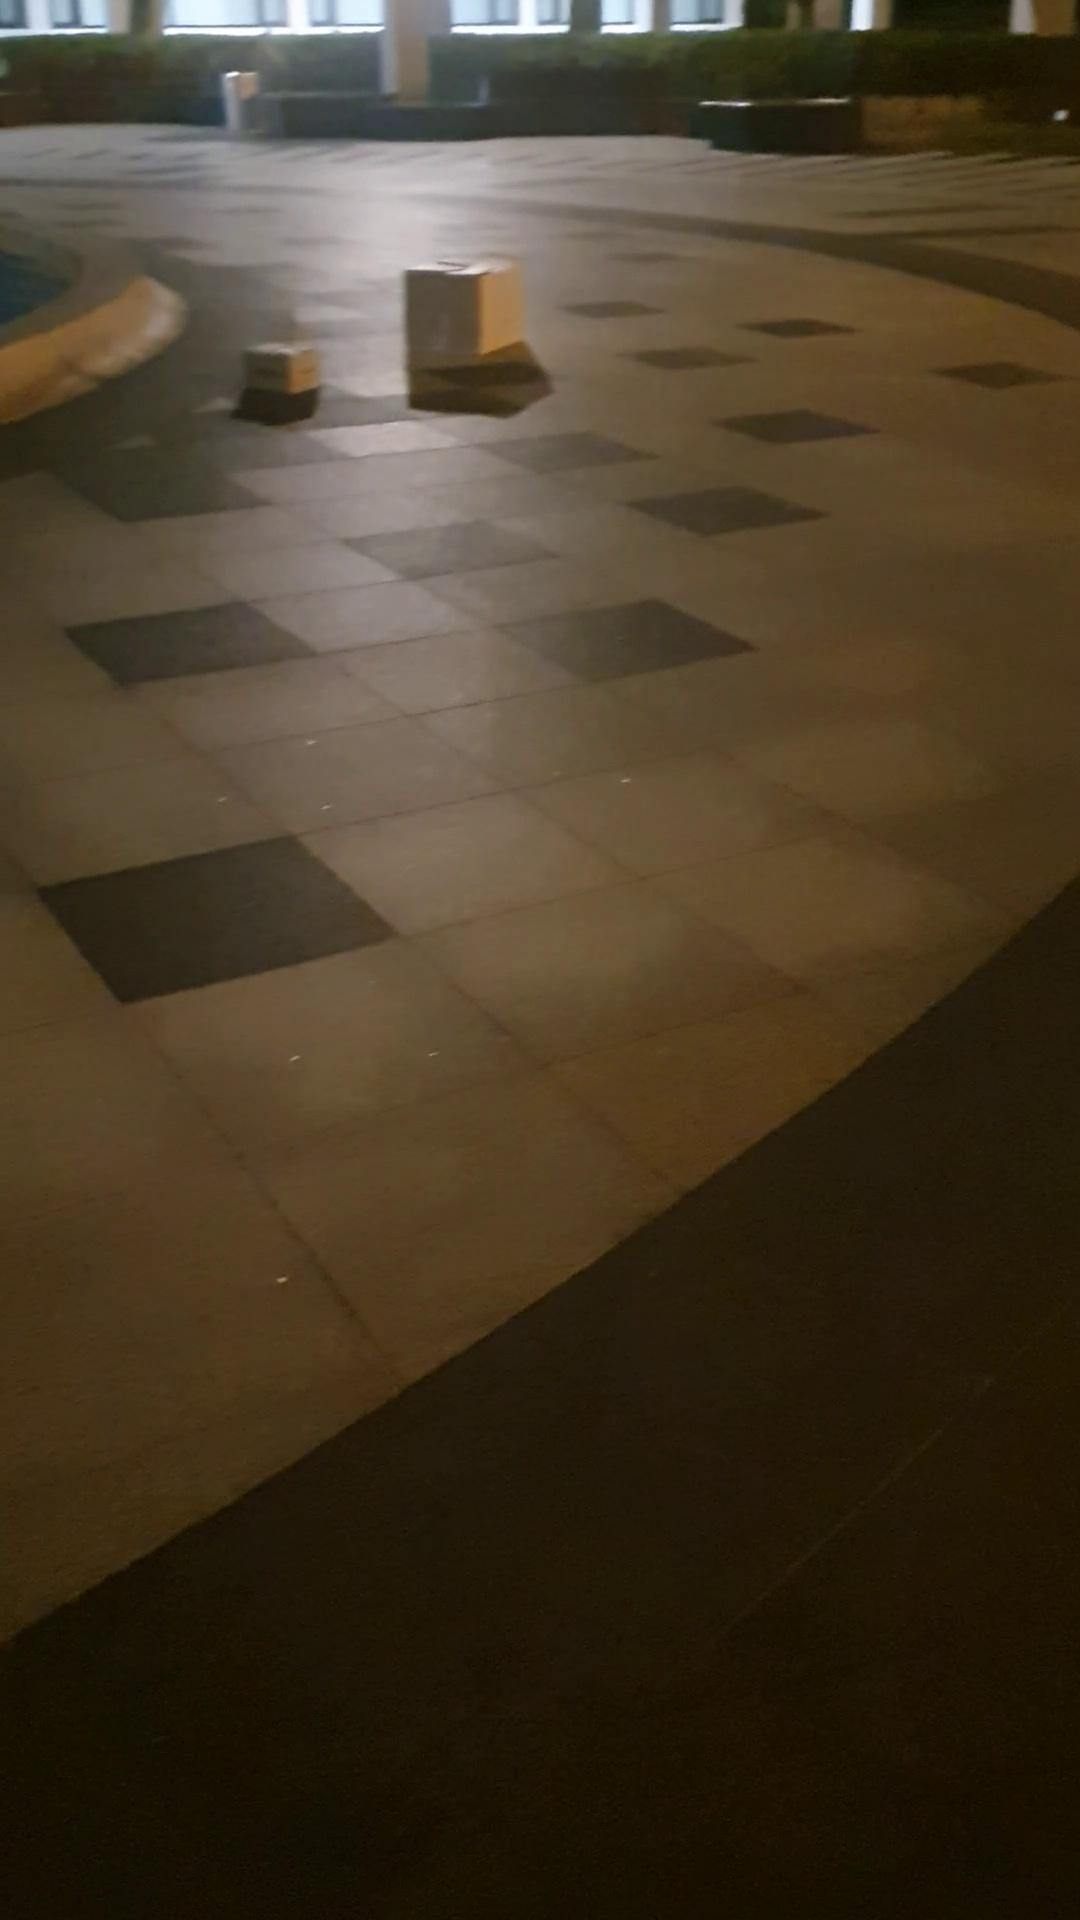Box: (393, 253, 525, 382), (237, 334, 315, 404)
